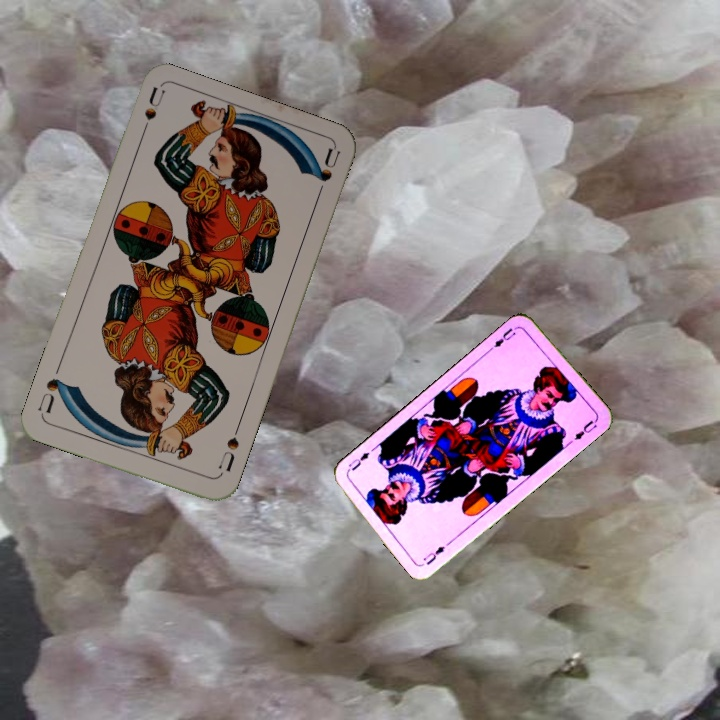EU: (490, 323, 520, 350), (419, 542, 447, 567)
SU: (135, 84, 168, 143), (214, 422, 242, 475)
